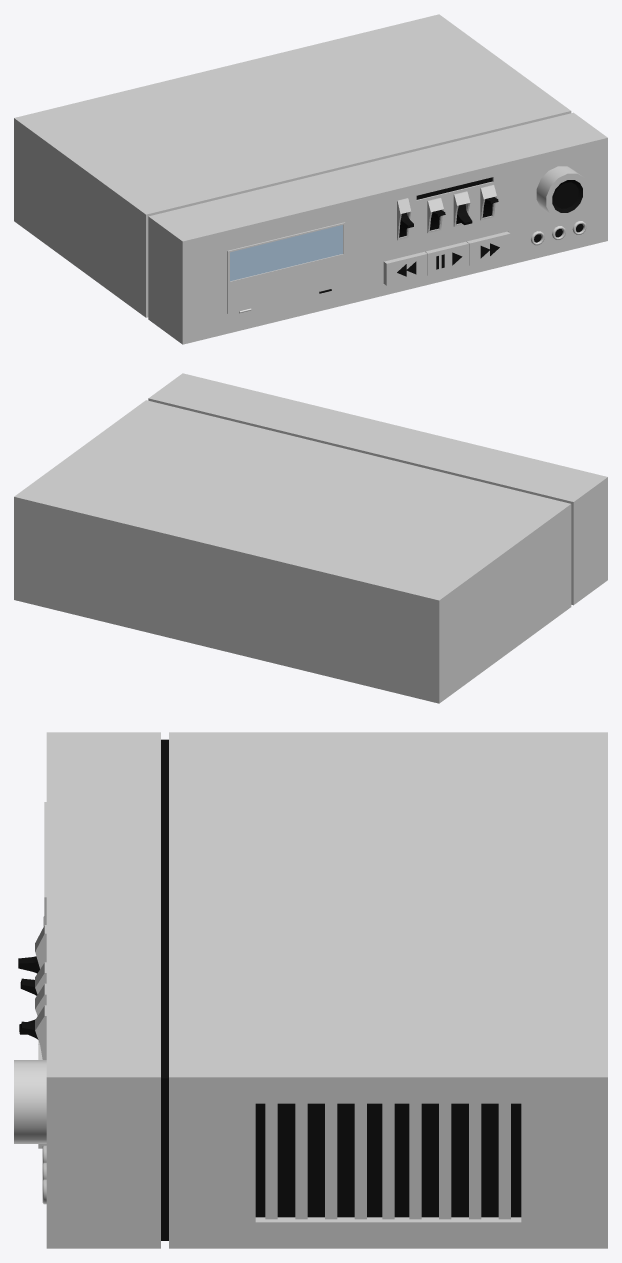
The model's file is Cassette_player.glb.
3 renders of one model, top to bottom at view 1: azimuth 30°, elevation 25°; view 2: azimuth 150°, elevation 25°; view 3: azimuth 270°, elevation 25°, orthographic. The views are drawn at different scales.
Parts seen in each view (by area): view 1: Cassete_player, Button_previous, Button_next, Button_stop_play; view 2: Cassete_player; view 3: Cassete_player.
Boxes of the visible parts, x1,y1,x2,y2 form: Cassete_player: [14, 14, 607, 344]; Button_previous: [383, 251, 427, 285]; Button_next: [466, 231, 510, 265]; Button_stop_play: [425, 241, 468, 275]; Cassete_player: [14, 373, 607, 703]; Cassete_player: [14, 732, 607, 1248].
Size of the model in its own units: 2.29 by 0.531 by 1.67.
